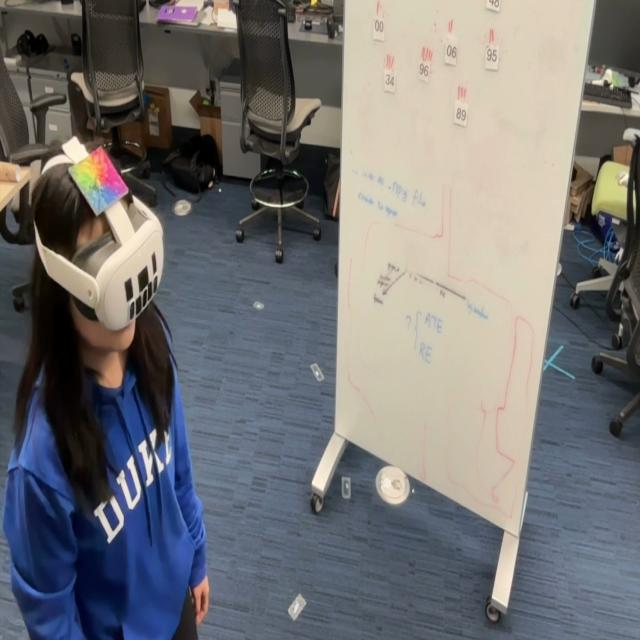Headset: (32, 160, 164, 332)
Marker: (68, 142, 130, 218)
